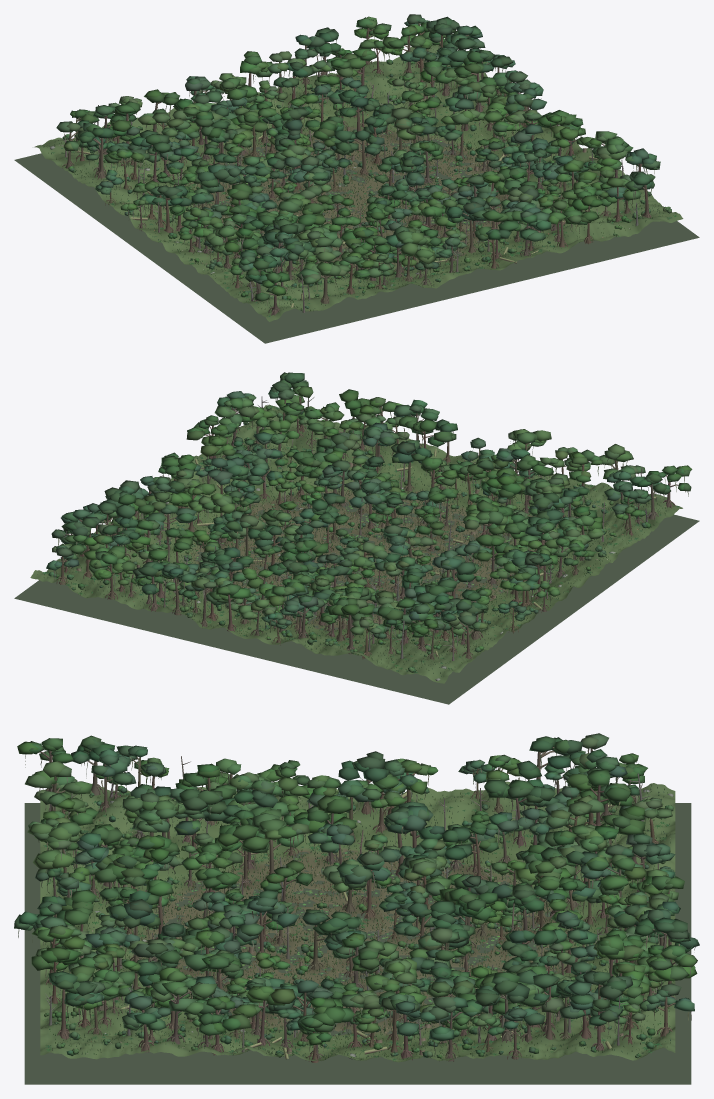
The model's file is pantano.glb.
The picture shows the model from 3 angles, top to bottom: view 1: azimuth 30°, elevation 25°; view 2: azimuth 150°, elevation 25°; view 3: azimuth 270°, elevation 25°; orthographic projection. The views are drawn at different scales.
Visible parts, largest first — view 1: Chao, Agua, Vegetacao_3_2, Vegetacao_2_3, Vegetacao_0_0, Vegetacao_1_3, Vegetacao_2_0, Vegetacao_3_0, Vegetacao_3_3, Vegetacao_0_3, Vegetacao_3_1, Vegetacao_0_2 (+7 smaller); view 2: Chao, Agua, Vegetacao_3_1, Vegetacao_0_0, Vegetacao_1_3, Vegetacao_0_3, Vegetacao_3_3, Vegetacao_2_3, Vegetacao_2_0, Vegetacao_3_2, Vegetacao_0_1, Vegetacao_3_0 (+7 smaller); view 3: Chao, Agua, Vegetacao_3_2, Vegetacao_1_3, Vegetacao_0_0, Vegetacao_3_1, Vegetacao_3_3, Vegetacao_3_0, Vegetacao_0_3, Vegetacao_0_1, Vegetacao_1_0, Vegetacao_1_2 (+8 smaller).
Boxes of the visible parts, x1=… form: Chao: x1=34, y1=45, x2=683, y2=321; Agua: x1=14, y1=129, x2=699, y2=343; Vegetacao_3_2: x1=401, y1=49, x2=553, y2=170; Vegetacao_2_3: x1=240, y1=27, x2=397, y2=146; Vegetacao_0_0: x1=215, y1=218, x2=374, y2=316; Vegetacao_1_3: x1=144, y1=73, x2=312, y2=170; Vegetacao_2_0: x1=432, y1=181, x2=581, y2=269; Vegetacao_3_0: x1=536, y1=131, x2=677, y2=244; Vegetacao_3_3: x1=354, y1=14, x2=489, y2=113; Vegetacao_0_3: x1=43, y1=96, x2=191, y2=184; Vegetacao_3_1: x1=466, y1=109, x2=633, y2=201; Vegetacao_0_2: x1=95, y1=145, x2=241, y2=237; Chao: x1=30, y1=404, x2=682, y2=683; Agua: x1=14, y1=492, x2=699, y2=704; Vegetacao_3_1: x1=158, y1=415, x2=321, y2=522; Vegetacao_0_0: x1=514, y1=444, x2=692, y2=549; Vegetacao_1_3: x1=238, y1=559, x2=394, y2=654; Vegetacao_0_3: x1=350, y1=579, x2=498, y2=676; Vegetacao_3_3: x1=37, y1=501, x2=179, y2=606; Vegetacao_2_3: x1=132, y1=547, x2=275, y2=633; Vegetacao_2_0: x1=316, y1=397, x2=463, y2=512; Vegetacao_3_2: x1=81, y1=476, x2=245, y2=570; Vegetacao_0_1: x1=454, y1=506, x2=618, y2=599; Vegetacao_3_0: x1=214, y1=372, x2=369, y2=482; Chao: x1=40, y1=781, x2=675, y2=1062; Agua: x1=24, y1=803, x2=691, y2=1084; Vegetacao_3_2: x1=350, y1=957, x2=545, y2=1061; Vegetacao_1_3: x1=491, y1=805, x2=678, y2=942; Vegetacao_0_0: x1=17, y1=735, x2=230, y2=873; Vegetacao_3_1: x1=181, y1=949, x2=380, y2=1062; Vegetacao_3_3: x1=514, y1=945, x2=697, y2=1057; Vegetacao_3_0: x1=31, y1=943, x2=216, y2=1055; Vegetacao_0_3: x1=484, y1=733, x2=674, y2=862; Vegetacao_0_1: x1=175, y1=758, x2=381, y2=876; Vegetacao_1_0: x1=27, y1=817, x2=211, y2=940; Vegetacao_1_2: x1=336, y1=821, x2=525, y2=943.
Bounding box in the file's own units: 148 × 22.52 × 151.
